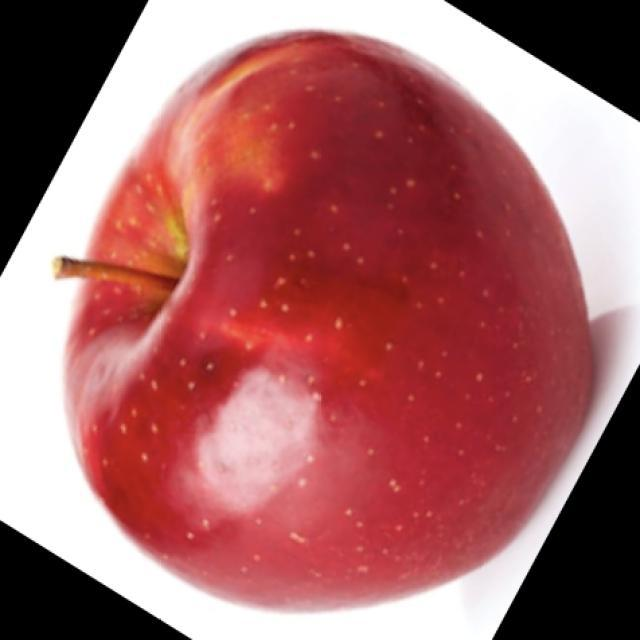Apple: (52, 27, 596, 613)
